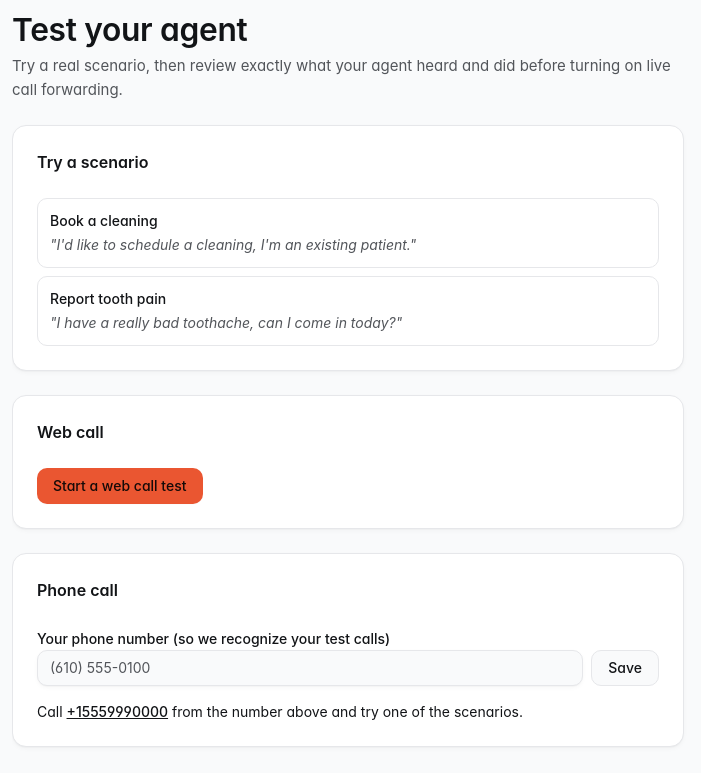
it: TestAgentClient › QA-1 F-17: typing letters in the test phone box is an error, not a silent 'Test number removed'
Type "abc" into the field labelled "Your phone number (so we recognize your test calls)" at (310, 668), box 37,650 -> 583,686
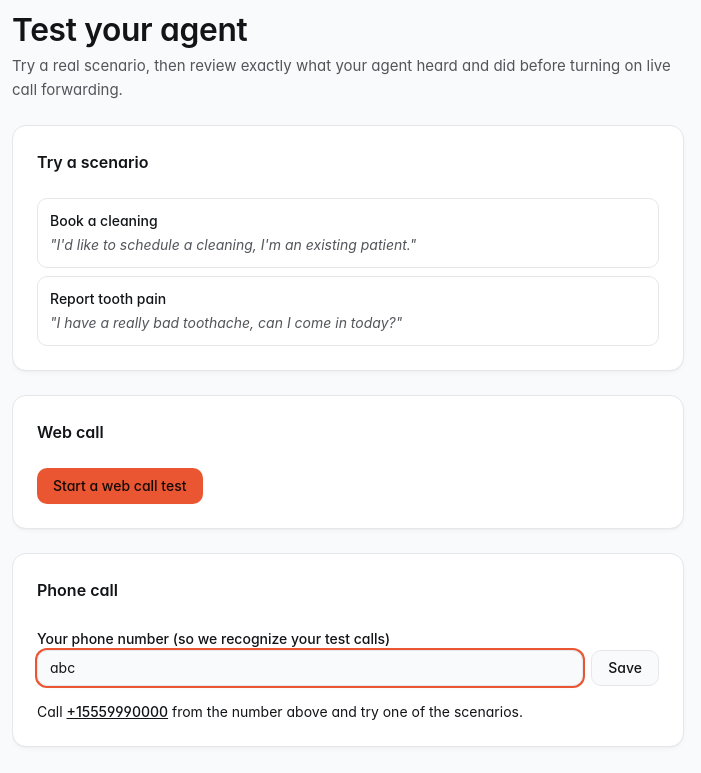
Click the button "Save" at (625, 668), box 591,650 -> 659,686
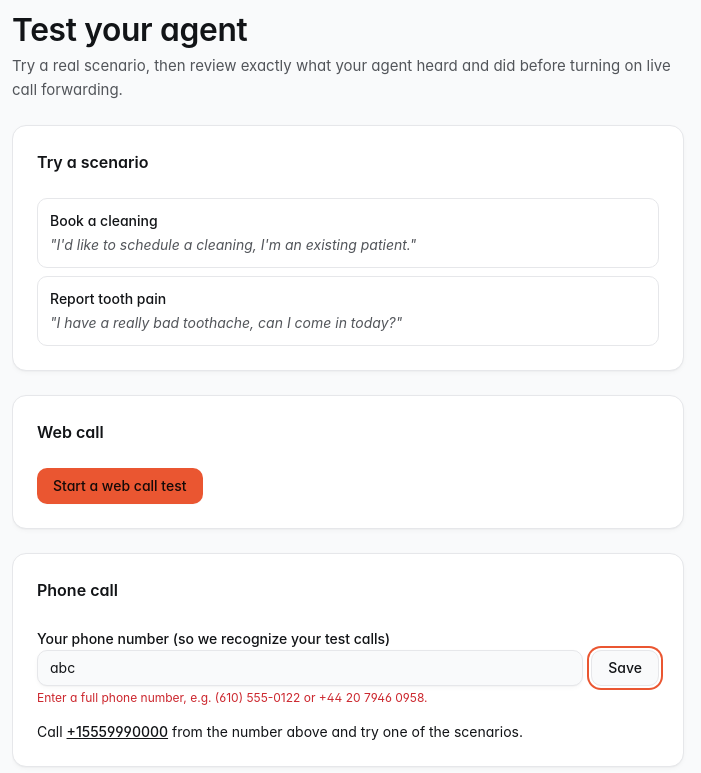
Expected: the message shows "Enter a full phone number", 37,690 -> 428,705
